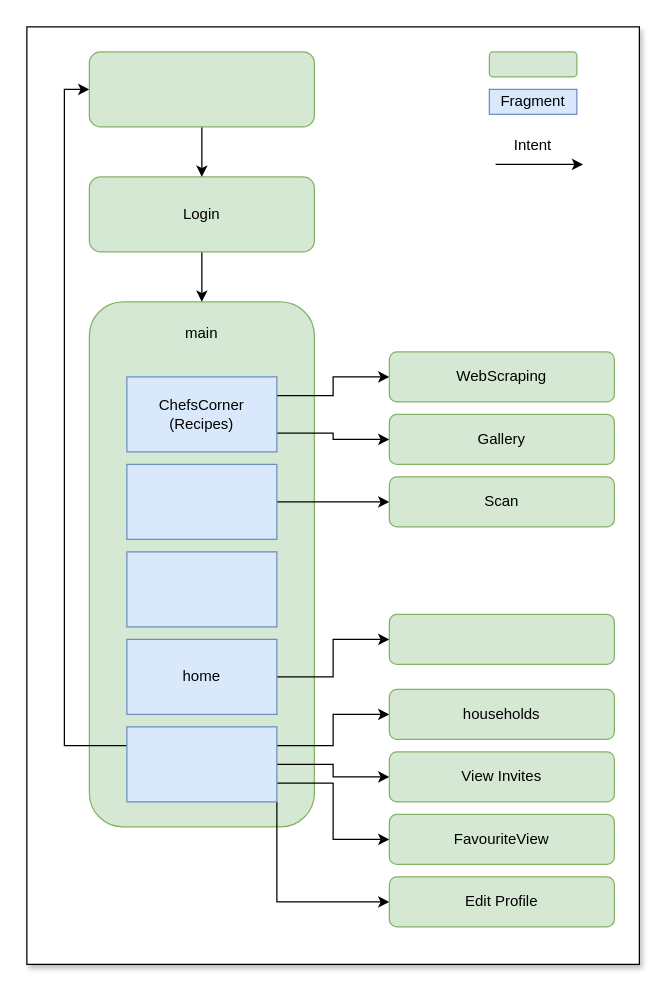
Image size: 669x995. Some labels were removed from this diagram. The shapes that lost their labels are listed below. From the top down, each one's centre as x and y in pixels, then its label:
(x=532, y=64): Activity
(x=201, y=89): Sign Up
(x=201, y=501): Inventory
(x=201, y=589): Shoppinglist
(x=501, y=638): Recipe View
(x=201, y=764): User
